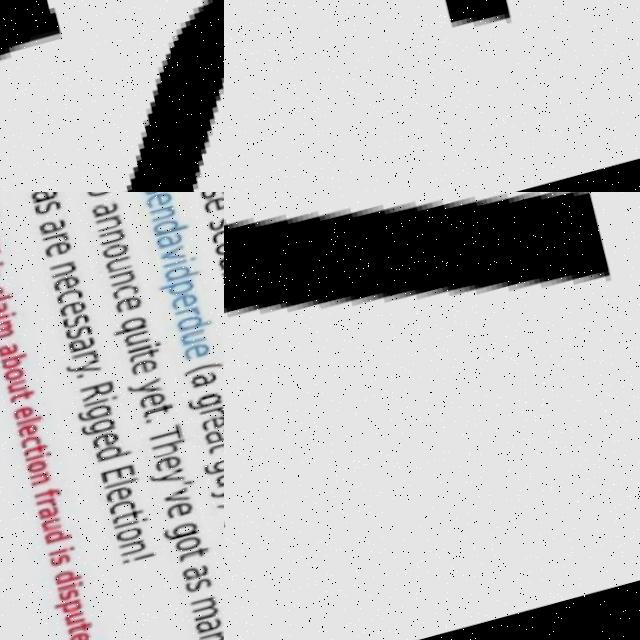A: (65, 333, 98, 355), (154, 228, 186, 249), (195, 613, 224, 635), (38, 215, 67, 236), (89, 199, 120, 218), (189, 369, 219, 388), (183, 562, 213, 581), (201, 423, 224, 445), (36, 503, 63, 521), (0, 338, 23, 359), (29, 192, 61, 204), (0, 298, 11, 317)
B: (0, 351, 29, 370)
C: (109, 496, 140, 516), (111, 281, 140, 301), (55, 285, 85, 304), (207, 224, 224, 244), (21, 434, 44, 448), (0, 282, 5, 299)
D: (173, 308, 214, 332), (162, 259, 201, 283), (96, 440, 135, 463), (151, 214, 188, 236), (44, 525, 77, 545), (54, 565, 87, 585)
E: (101, 460, 140, 484), (103, 481, 137, 504), (41, 237, 75, 259), (112, 292, 144, 314), (51, 271, 82, 293), (181, 339, 213, 360), (129, 356, 161, 377), (154, 451, 186, 472), (166, 498, 198, 519), (57, 297, 89, 318), (91, 428, 123, 449), (137, 389, 168, 410), (169, 290, 200, 310), (142, 192, 174, 210), (198, 192, 224, 214), (199, 410, 224, 432), (16, 419, 42, 440), (11, 402, 38, 420), (69, 628, 95, 640)
F: (224, 0, 640, 135), (33, 484, 64, 501)
G: (185, 387, 224, 411), (76, 400, 115, 424), (163, 518, 202, 541), (80, 414, 119, 437), (203, 452, 224, 475)
H: (151, 437, 190, 458)
I: (126, 338, 161, 354), (116, 515, 151, 529), (162, 255, 198, 268), (84, 394, 120, 407), (48, 544, 78, 557), (26, 450, 54, 461), (60, 580, 86, 590), (0, 310, 18, 322)
L: (224, 192, 640, 567), (106, 475, 141, 489), (17, 414, 45, 425), (0, 291, 13, 303)
M: (192, 595, 223, 621), (0, 316, 14, 339)
N: (108, 267, 138, 288), (148, 202, 177, 222), (120, 537, 149, 557), (49, 259, 79, 278), (97, 226, 126, 245), (94, 213, 122, 232), (29, 468, 54, 487), (200, 627, 224, 640)
O: (100, 239, 131, 261), (116, 522, 147, 543), (176, 532, 205, 553), (2, 364, 28, 384), (27, 456, 52, 475), (213, 235, 224, 256), (83, 192, 115, 198)
P: (158, 277, 194, 299), (54, 596, 86, 617)
Q: (108, 312, 149, 337)
R: (80, 378, 119, 401), (174, 304, 203, 319), (71, 348, 100, 363), (42, 231, 69, 244), (200, 404, 224, 418), (37, 494, 60, 508)
S: (0, 0, 224, 192), (64, 320, 95, 342), (31, 197, 63, 217), (61, 309, 92, 329), (186, 574, 216, 594), (58, 584, 85, 603), (49, 550, 76, 568), (205, 210, 224, 232), (198, 192, 224, 199), (140, 192, 171, 196)
T: (146, 421, 186, 446), (112, 506, 148, 524), (142, 400, 177, 418), (179, 545, 214, 562), (129, 346, 161, 362), (23, 441, 52, 457), (9, 388, 37, 403), (69, 620, 96, 633), (207, 435, 224, 452)
U: (124, 327, 152, 347), (179, 326, 208, 345), (105, 254, 134, 273), (40, 513, 66, 533), (5, 377, 30, 395), (65, 608, 89, 626), (215, 249, 224, 270), (215, 467, 224, 486)
V: (156, 242, 188, 263), (163, 484, 193, 506)
Y: (148, 465, 189, 490), (63, 355, 102, 379), (126, 375, 164, 398), (209, 480, 224, 503)
